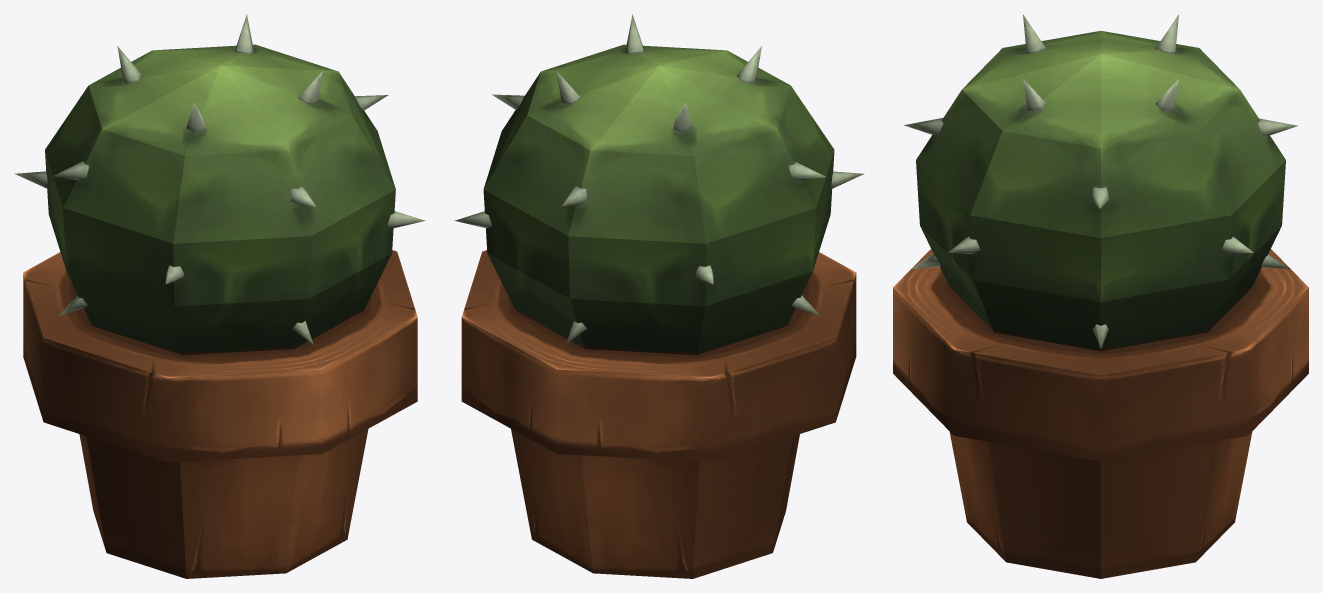
File: 30_Cactus.FBX
3 renders of one model, left to right at view 1: azimuth 30°, elevation 25°; view 2: azimuth 150°, elevation 25°; view 3: azimuth 270°, elevation 25°, orthographic.
Visible parts, largest first — view 1: 30_cactus; view 2: 30_cactus; view 3: 30_cactus.
Part boxes in pixels (bbox=[...]): 30_cactus: bbox=[14, 14, 425, 578]; 30_cactus: bbox=[454, 14, 864, 578]; 30_cactus: bbox=[893, 14, 1308, 578].
Size of the model in its own units: 38.73 by 48.92 by 38.73.
